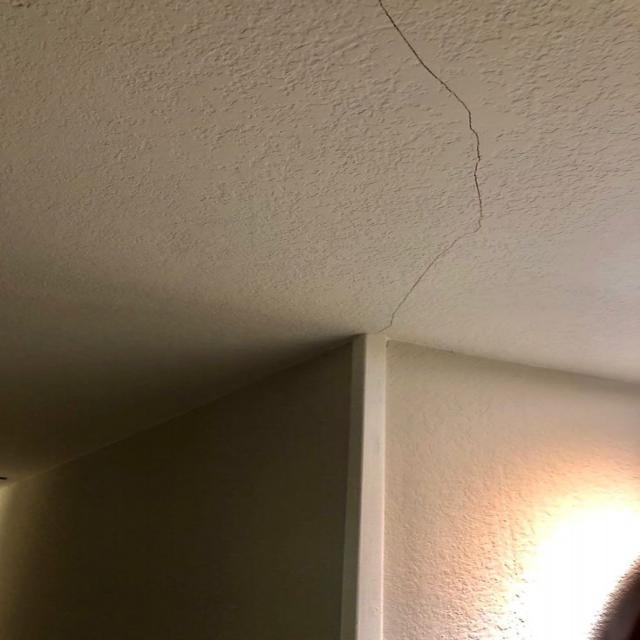leak: (378, 2, 470, 113), (375, 234, 469, 332), (466, 113, 488, 234)
